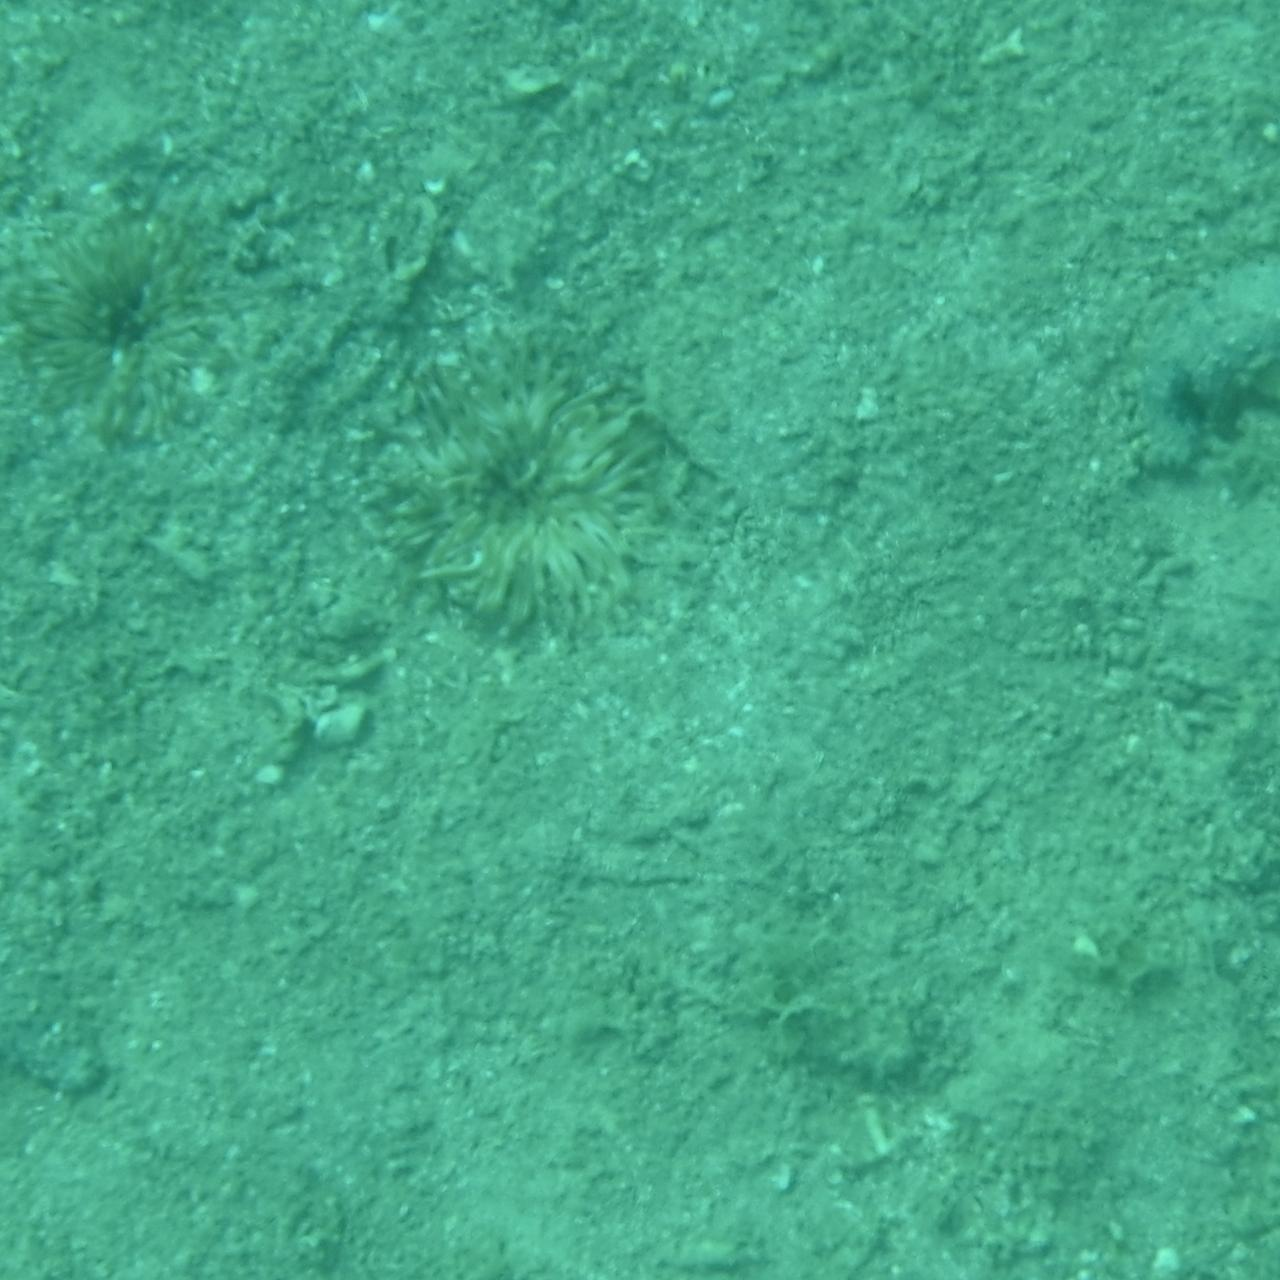Condylactis aurantiaca: (348, 300, 744, 633), (0, 169, 252, 445)
Holothuria tubulosa: (1058, 237, 1280, 471), (0, 825, 175, 1121)
